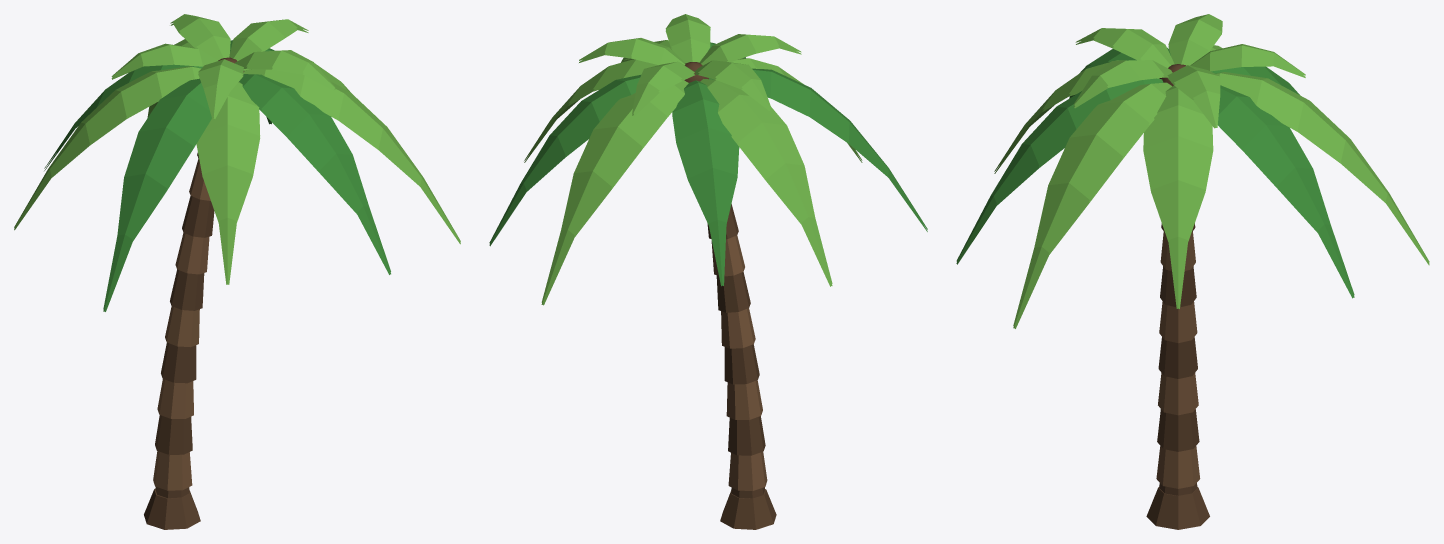
Rendered from palm.glb.
The picture shows the model from 3 angles, left to right: view 1: azimuth 30°, elevation 25°; view 2: azimuth 150°, elevation 25°; view 3: azimuth 270°, elevation 25°; orthographic projection. The views are drawn at different scales.
Visible parts, largest first — view 1: palm; view 2: palm; view 3: palm.
Boxes of the visible parts, bbox=[...] form: palm: bbox=[14, 14, 460, 529]; palm: bbox=[489, 14, 927, 529]; palm: bbox=[956, 14, 1429, 529].
Size of the model in its own units: 4.11 by 5.2 by 4.46.
